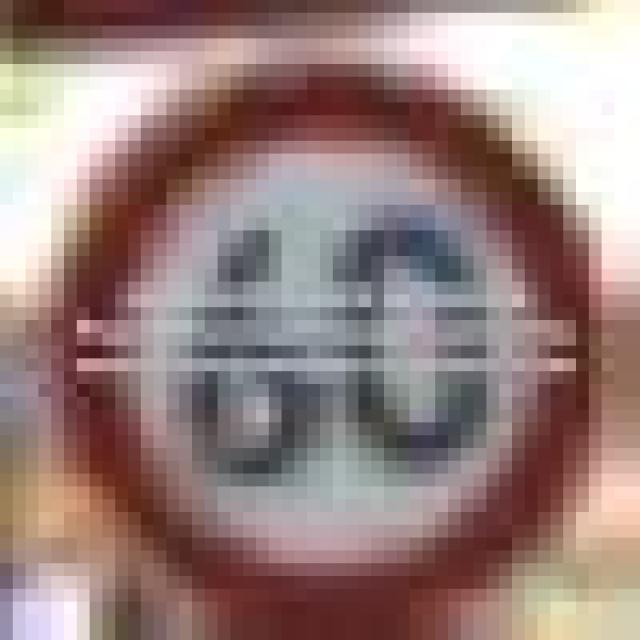speed_limit_40: (38, 64, 589, 576)
